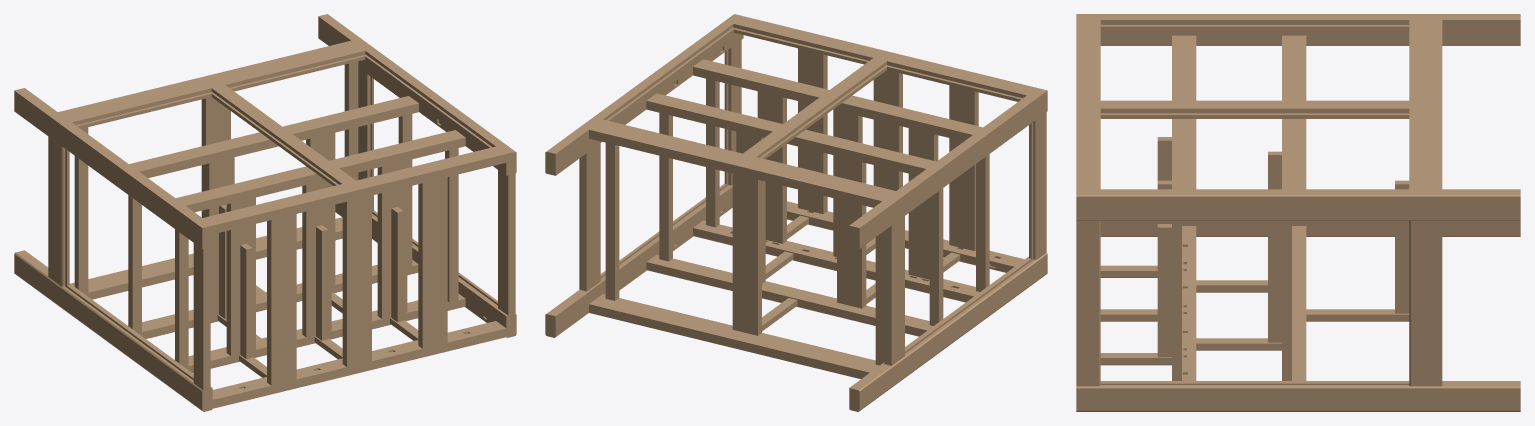
The model's file is dresser_frame.fbx.
3 views of the same model, side by side, from view 1: azimuth 30°, elevation 25°; view 2: azimuth 150°, elevation 25°; view 3: azimuth 270°, elevation 25° (orthographic). The views are drawn at different scales.
Parts seen in each view (by area): view 1: Body1 (×30), Body2 (×6); view 2: Body1 (×27), Body2 (×6); view 3: Body1 (×24), Body2 (×2).
Part boxes in pixels (<box>): Body1 (×30): <box>14,14,516,411</box>; Body2 (×6): <box>74,61,458,367</box>; Body1 (×27): <box>545,14,1047,411</box>; Body2 (×6): <box>605,78,989,365</box>; Body1 (×24): <box>1076,14,1520,411</box>; Body2 (×2): <box>1172,220,1291,380</box>.
Bounding box in the file's own units: 37.5 × 21 × 38.86.
